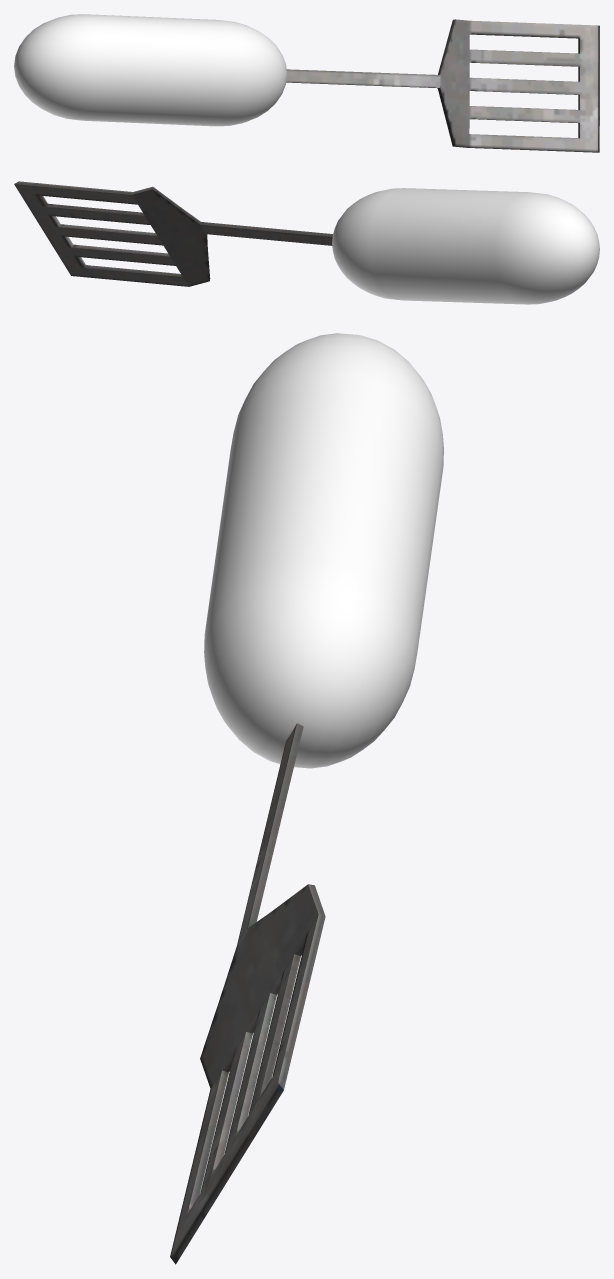
The model's file is SpatulaAnchor.fbx.
The picture shows the model from 3 angles, top to bottom: view 1: azimuth 30°, elevation 25°; view 2: azimuth 150°, elevation 25°; view 3: azimuth 270°, elevation 25°; orthographic projection. The views are drawn at different scales.
Visible parts, largest first — view 1: InteractionPoint, LMADW_; view 2: InteractionPoint, LMADW_; view 3: InteractionPoint, LMADW_.
Part boxes in pixels (box(x1,y1,x2,y2)): InteractionPoint: box(14, 14, 287, 126); LMADW_: box(286, 19, 599, 152); InteractionPoint: box(332, 188, 599, 304); LMADW_: box(14, 181, 332, 286); InteractionPoint: box(204, 333, 443, 768); LMADW_: box(170, 723, 325, 1264).
Size of the model in its own units: 61.12 by 22.82 by 12.82.
